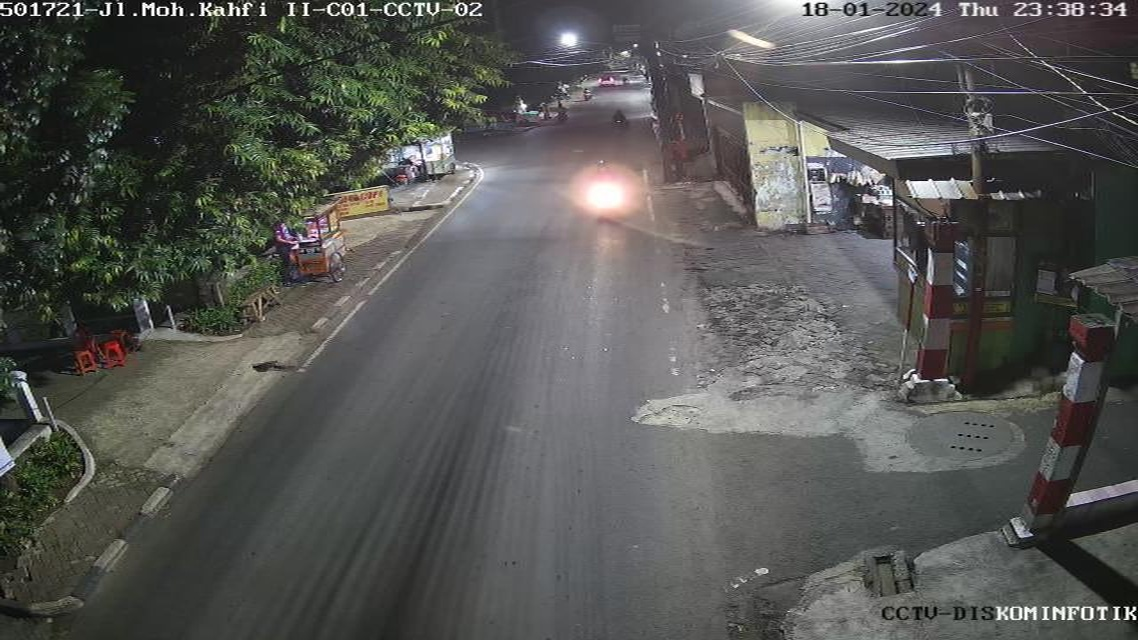Gerobak: (258, 183, 349, 291), (395, 117, 464, 188)
